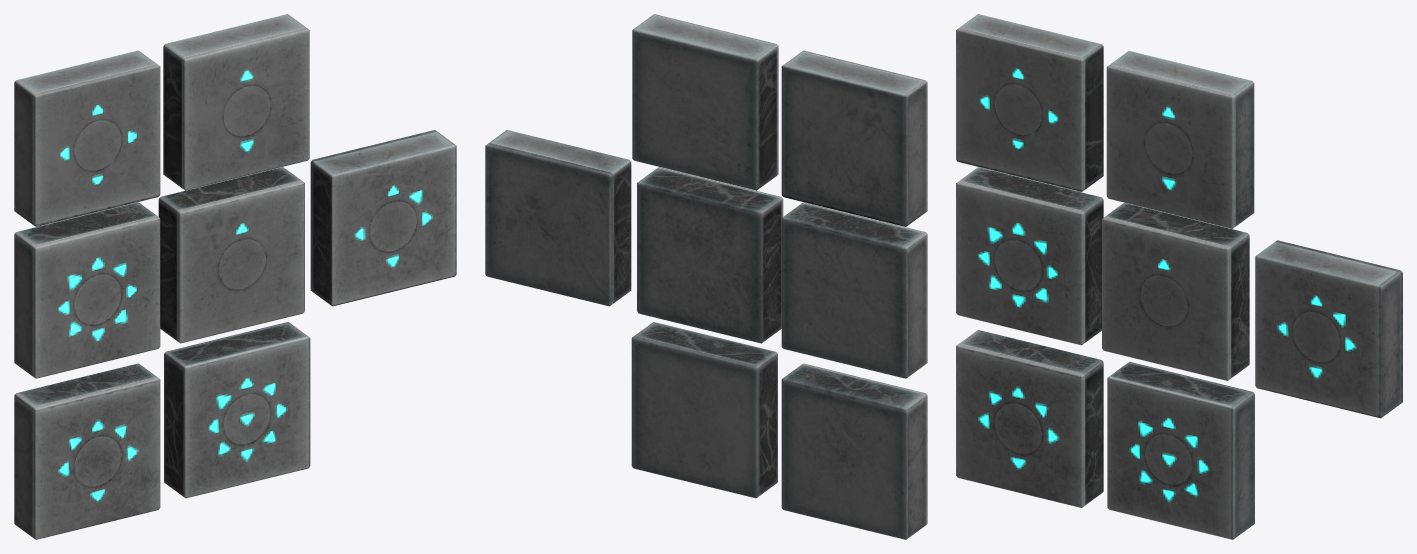
The model's file is stonepuzzle_packA_v03.fbx.
3 views of the same model, side by side, from view 1: azimuth 30°, elevation 25°; view 2: azimuth 150°, elevation 25°; view 3: azimuth 330°, elevation 25° (orthographic).
Parts seen in each view (by area): view 1: stonepuzzlepack_1_3, stonepuzzlepack_1_5, stonepuzzlepack_1_6, stonepuzzlepack_1_1, stonepuzzlepack_1_2, stonepuzzlepack_1_7, stonepuzzlepack_1_4; view 2: stonepuzzlepack_1_3, stonepuzzlepack_1_5, stonepuzzlepack_1_6, stonepuzzlepack_1_1, stonepuzzlepack_1_2, stonepuzzlepack_1_7, stonepuzzlepack_1_4; view 3: stonepuzzlepack_1_6, stonepuzzlepack_1_2, stonepuzzlepack_1_1, stonepuzzlepack_1_3, stonepuzzlepack_1_4, stonepuzzlepack_1_7, stonepuzzlepack_1_5.
Boxes of the visible parts, <box> form: stonepuzzlepack_1_3: <box>164,322,310,498</box>; stonepuzzlepack_1_5: <box>14,202,160,378</box>; stonepuzzlepack_1_6: <box>163,14,309,190</box>; stonepuzzlepack_1_1: <box>310,130,456,306</box>; stonepuzzlepack_1_2: <box>14,363,160,539</box>; stonepuzzlepack_1_7: <box>14,50,160,226</box>; stonepuzzlepack_1_4: <box>158,167,304,343</box>; stonepuzzlepack_1_3: <box>631,322,777,498</box>; stonepuzzlepack_1_5: <box>781,202,927,378</box>; stonepuzzlepack_1_6: <box>632,14,778,190</box>; stonepuzzlepack_1_1: <box>485,130,631,306</box>; stonepuzzlepack_1_2: <box>781,363,927,539</box>; stonepuzzlepack_1_7: <box>781,50,927,226</box>; stonepuzzlepack_1_4: <box>637,167,783,343</box>; stonepuzzlepack_1_6: <box>1106,51,1254,228</box>; stonepuzzlepack_1_2: <box>956,330,1103,507</box>; stonepuzzlepack_1_1: <box>1255,240,1402,418</box>; stonepuzzlepack_1_3: <box>1107,361,1254,539</box>; stonepuzzlepack_1_4: <box>1102,203,1249,380</box>; stonepuzzlepack_1_7: <box>956,14,1103,191</box>; stonepuzzlepack_1_5: <box>956,167,1103,345</box>.
Size of the model in its own units: 6.84 by 6.88 by 0.6196.
Materials: 1 (1 with a texture image).
